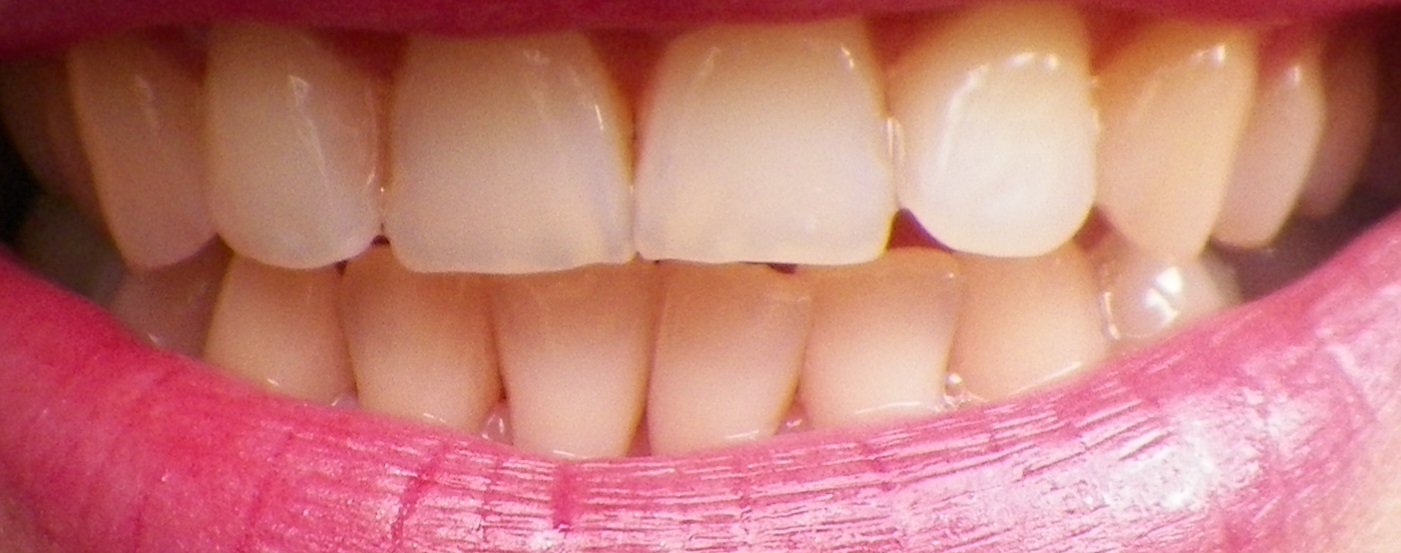boca: (22, 18, 1362, 452)
